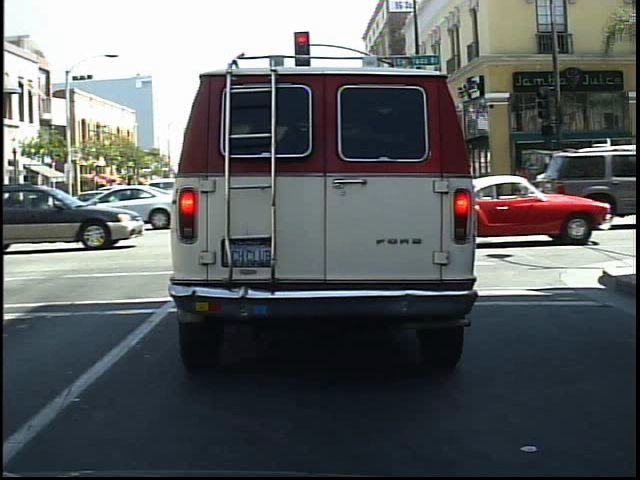person: (592, 142, 616, 209), (538, 152, 562, 210), (513, 156, 535, 207)
